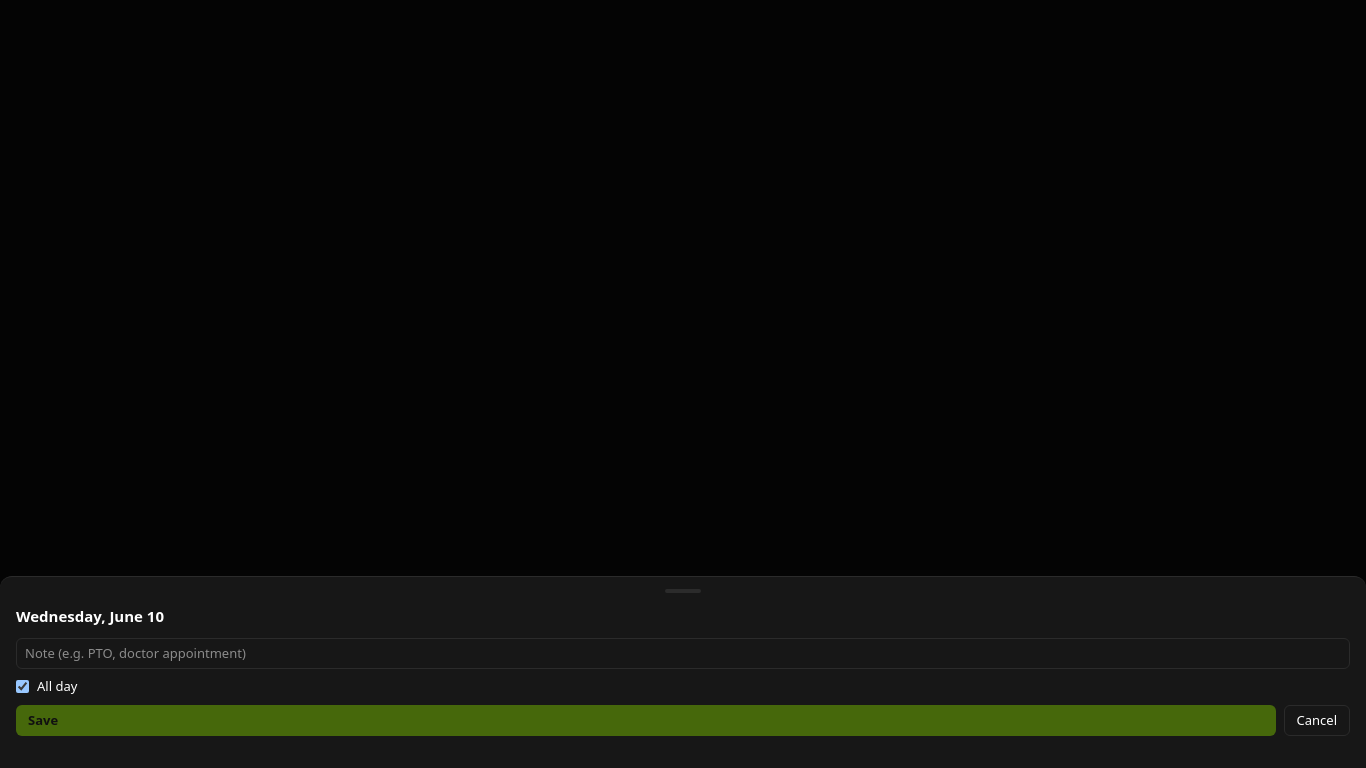
Scenario: MobileAppointmentSheet › Save button is enabled when note is filled
Type "PTO" into the field with placeholder "Note (e.g. PTO, doctor appointment)" at (683, 653), box top-left (16, 638), bottom-right (1350, 669)
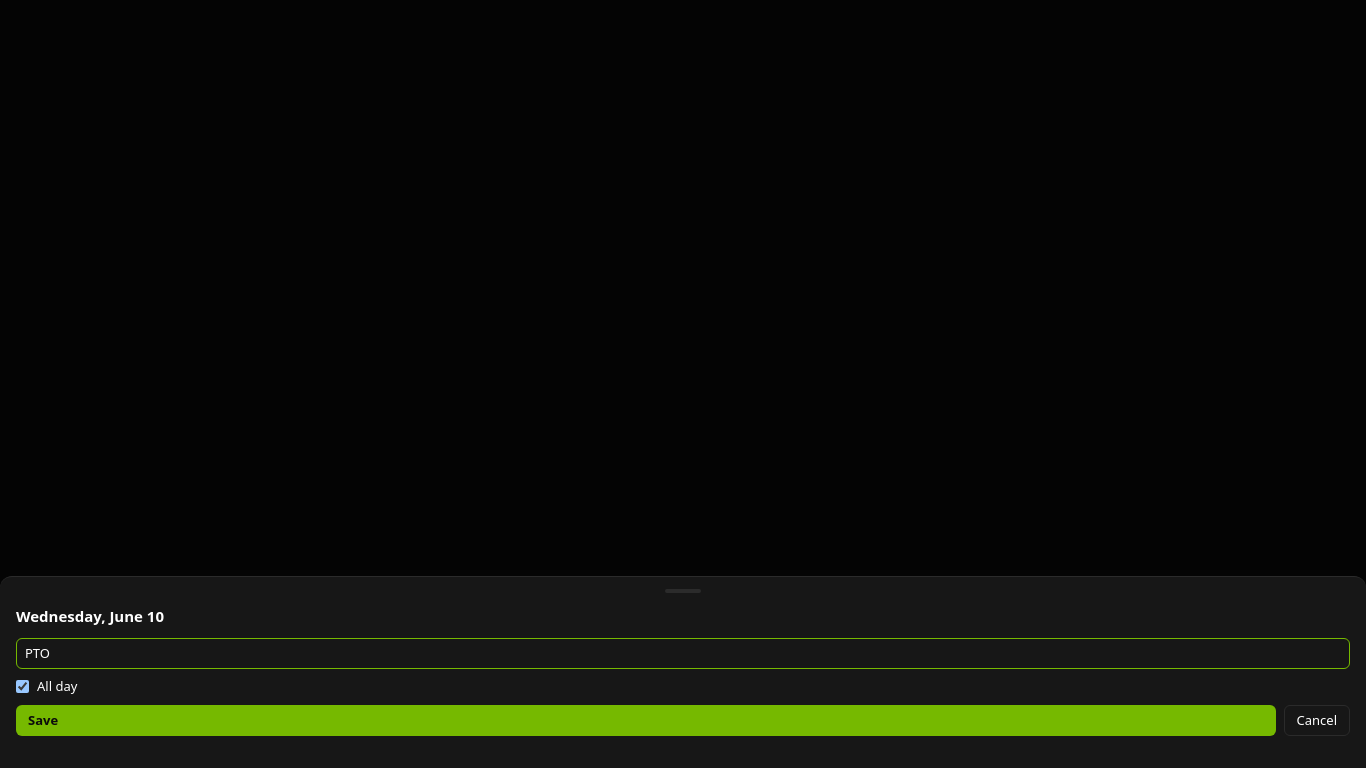
Check: the button "Save" is enabled, box top-left (16, 704), bottom-right (1276, 736)
